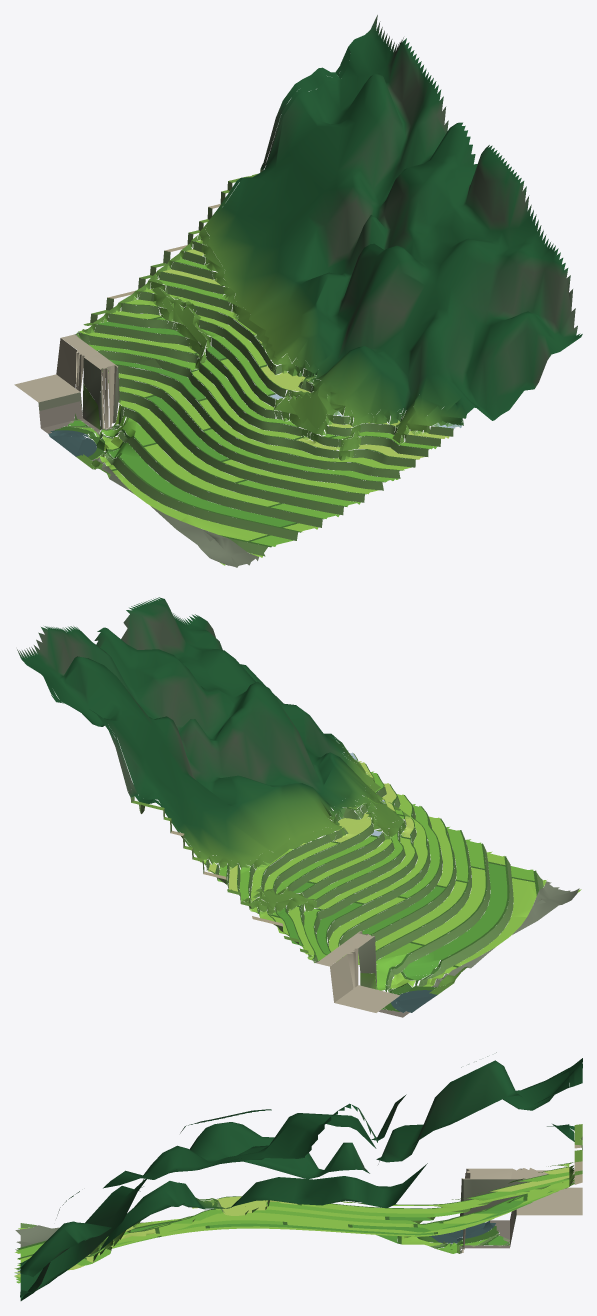
The model's file is payo_land_xm1_y0_lod2.glb.
3 renders of one model, top to bottom at view 1: azimuth 30°, elevation 25°; view 2: azimuth 150°, elevation 25°; view 3: azimuth 270°, elevation 25°, orthographic. The views are drawn at different scales.
Parts seen in each view (by area): view 1: payo_land_xm1_y0; view 2: payo_land_xm1_y0; view 3: payo_land_xm1_y0.
Boxes of the visible parts, x1=… form: payo_land_xm1_y0: x1=14, y1=15, x2=582, y2=567; payo_land_xm1_y0: x1=17, y1=597, x2=581, y2=1017; payo_land_xm1_y0: x1=14, y1=1052, x2=582, y2=1300.
Bounding box in the file's own units: 258 × 214 × 258.
